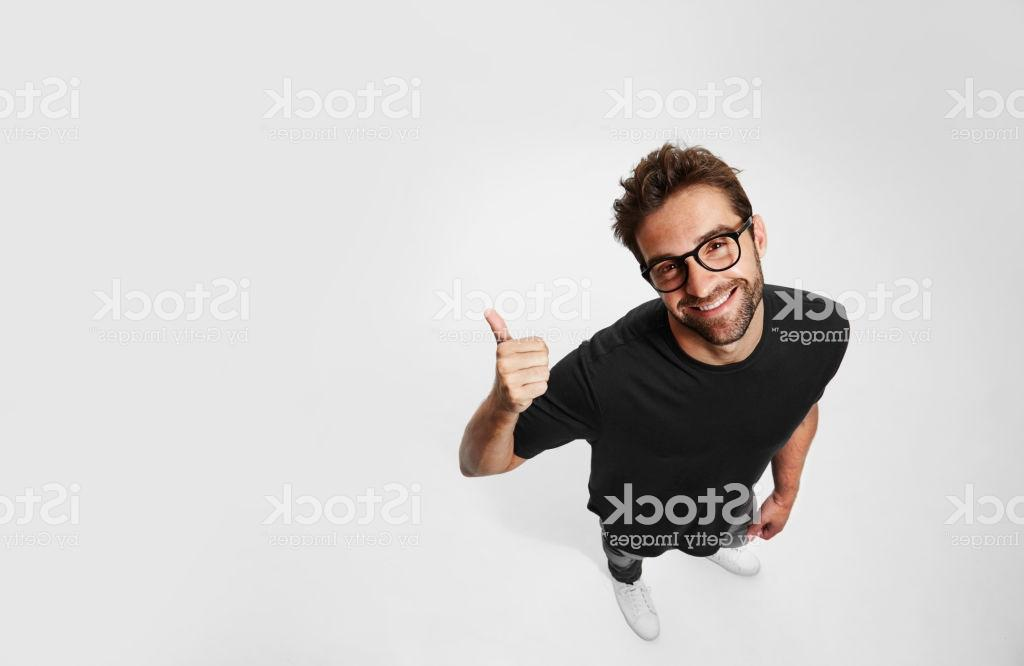thumbsup: (481, 309, 551, 410)
